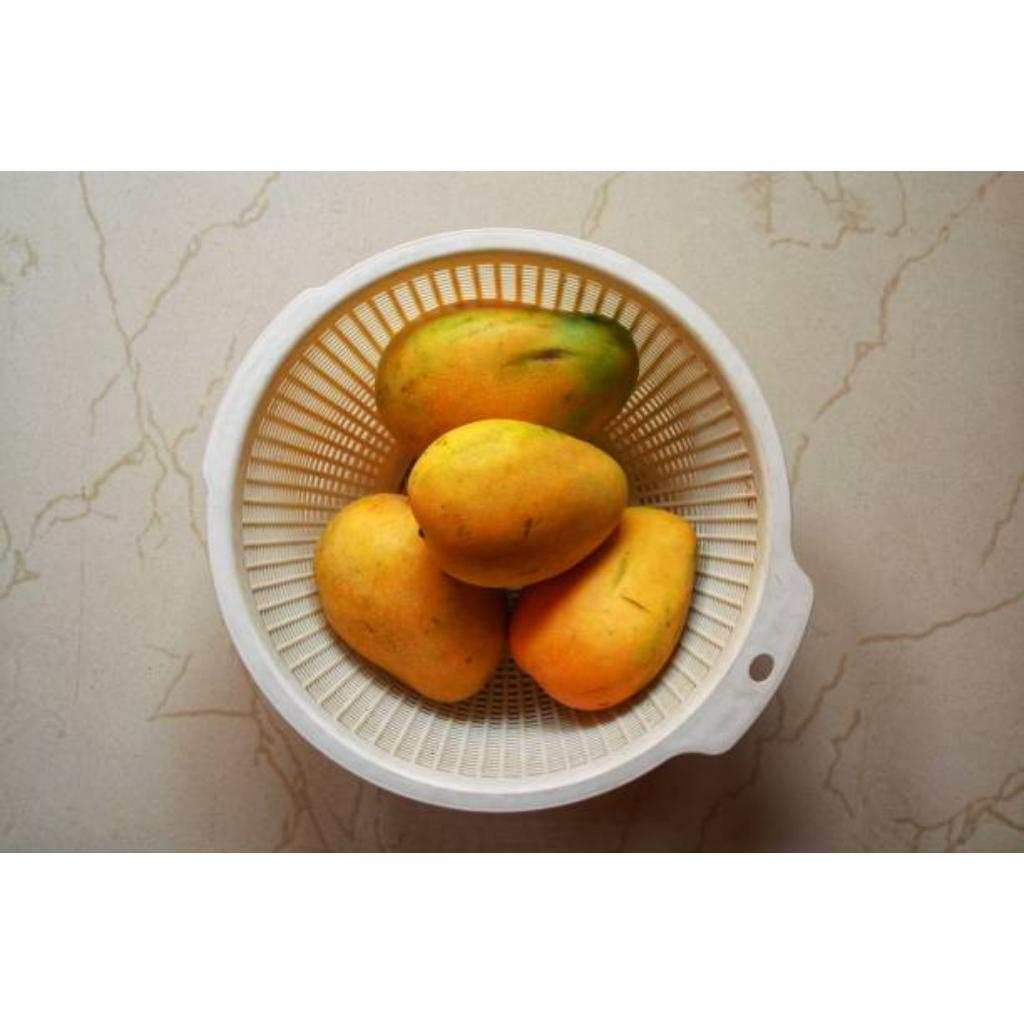mango: (376, 301, 638, 450), (316, 497, 506, 702), (510, 509, 694, 710), (408, 421, 628, 588)
